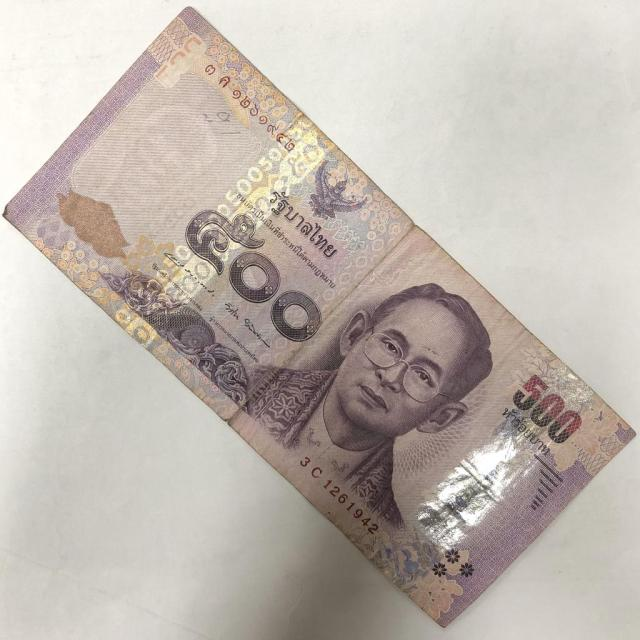THAI500: (4, 8, 636, 629)
